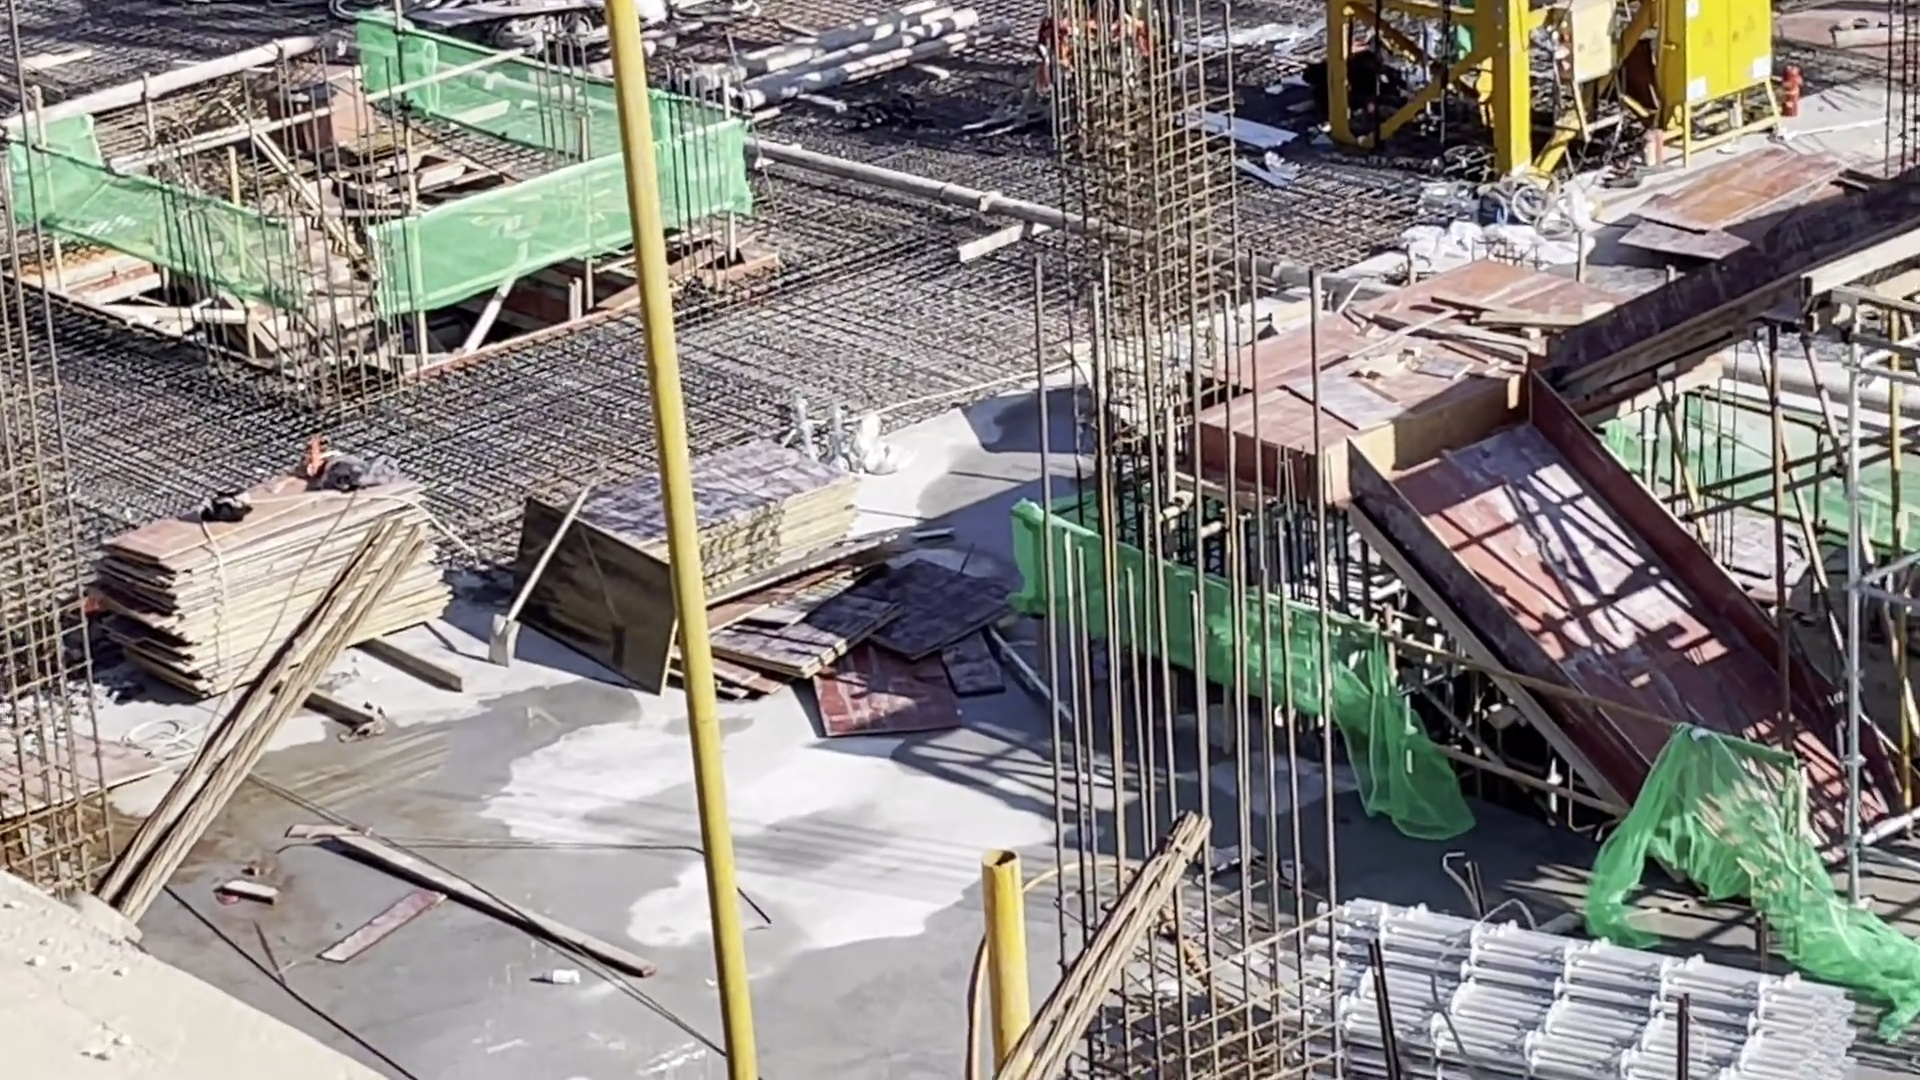board: (103, 454, 448, 694), (549, 435, 860, 603)
ebox: (1647, 1, 1793, 161), (1545, 1, 1648, 141)
scaffold: (1337, 895, 1859, 1080)
